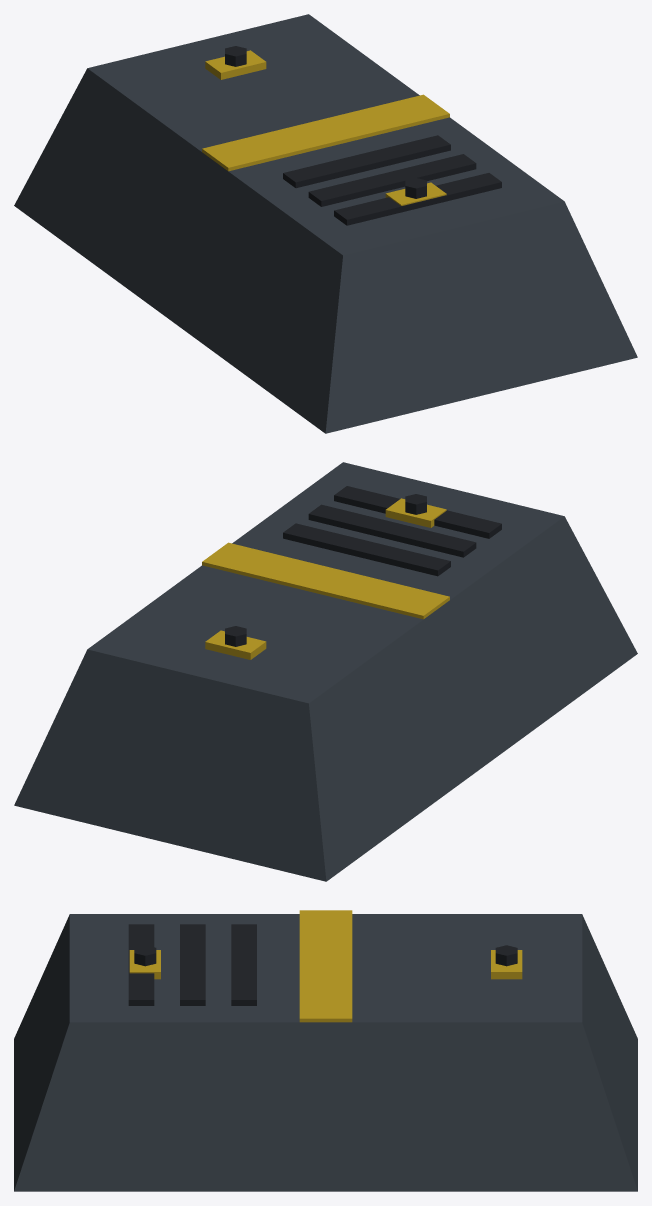
The model's file is b12_seal.obj.
The picture shows the model from 3 angles, top to bottom: view 1: azimuth 30°, elevation 25°; view 2: azimuth 150°, elevation 25°; view 3: azimuth 270°, elevation 25°; orthographic projection.
Parts seen in each view (by area): view 1: b12_seal; view 2: b12_seal; view 3: b12_seal.
Part boxes in pixels (box(x1,y1,x2,y2)): b12_seal: box(14, 14, 637, 433); b12_seal: box(14, 462, 637, 881); b12_seal: box(14, 910, 637, 1191).
Bounding box in the file's own units: 1.1 × 0.5534 × 1.9.
